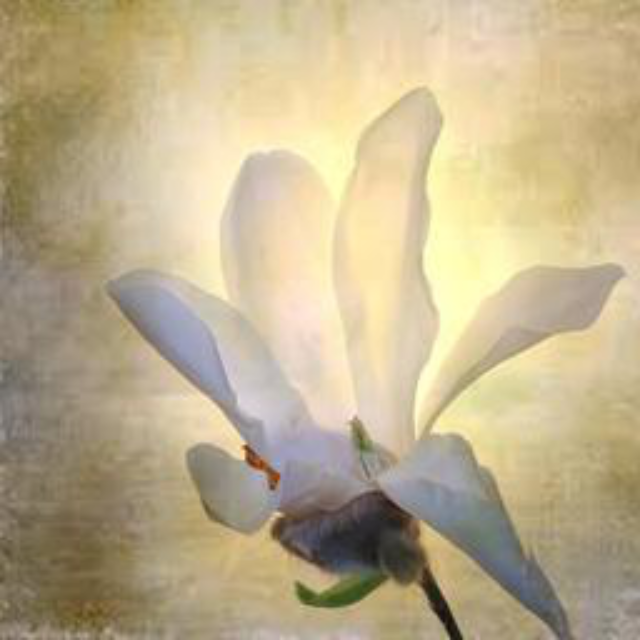magnolia: (96, 84, 632, 636)
